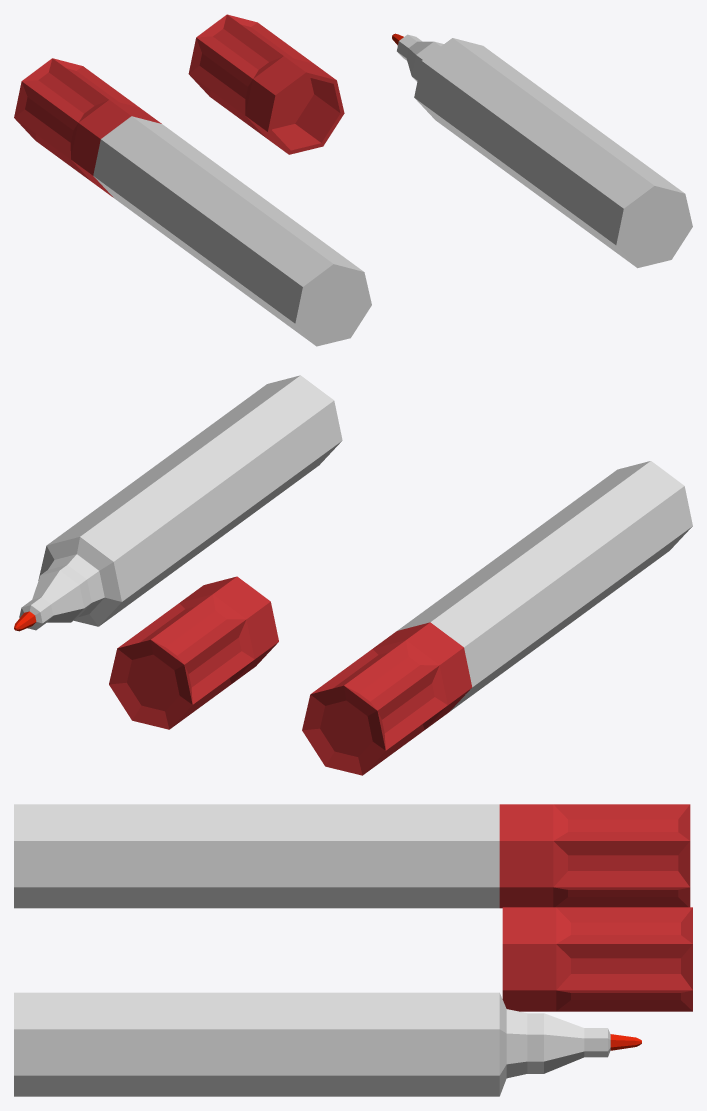
Rendered from feutre.fbx.
The picture shows the model from 3 angles, top to bottom: view 1: azimuth 30°, elevation 25°; view 2: azimuth 150°, elevation 25°; view 3: azimuth 270°, elevation 25°; orthographic projection. The views are drawn at different scales.
Visible parts, largest first — view 1: feutre_classic, feutre_boucher, Bouchon_classic, bouchon_feutre_boucher; view 2: feutre_classic, feutre_boucher, Bouchon_classic, bouchon_feutre_boucher; view 3: feutre_classic, feutre_boucher, Bouchon_classic, bouchon_feutre_boucher.
Boxes of the visible parts, <box> form: feutre_classic: <box>397,34,692,268</box>; feutre_boucher: <box>93,116,371,346</box>; Bouchon_classic: <box>188,14,344,154</box>; bouchon_feutre_boucher: <box>14,58,161,197</box>; feutre_classic: <box>19,375,342,630</box>; feutre_boucher: <box>397,461,692,711</box>; Bouchon_classic: <box>109,576,278,729</box>; bouchon_feutre_boucher: <box>302,622,472,775</box>; feutre_classic: <box>14,992,610,1096</box>; feutre_boucher: <box>14,804,499,908</box>; Bouchon_classic: <box>502,907,692,1011</box>; bouchon_feutre_boucher: <box>499,804,690,908</box>.
Bounding box in the file's own units: 1010 × 190 × 1243.
